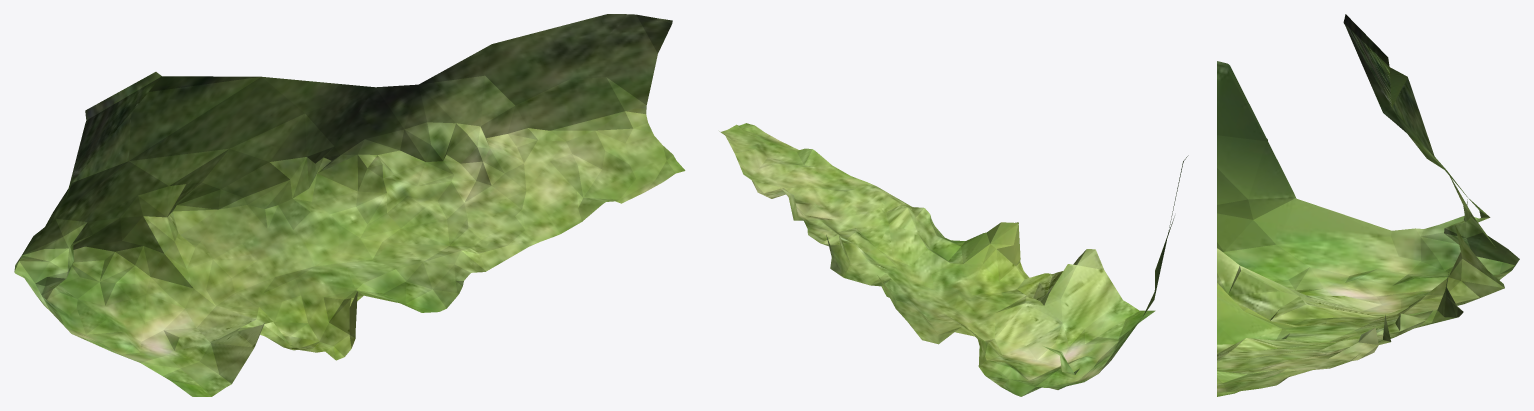
The picture shows the model from 3 angles, left to right: view 1: azimuth 30°, elevation 25°; view 2: azimuth 150°, elevation 25°; view 3: azimuth 270°, elevation 25°; orthographic projection. The views are drawn at different scales.
Size of the model in its own units: 26.11 by 12.19 by 13.45.
Materials: 2 (2 with a texture image).
